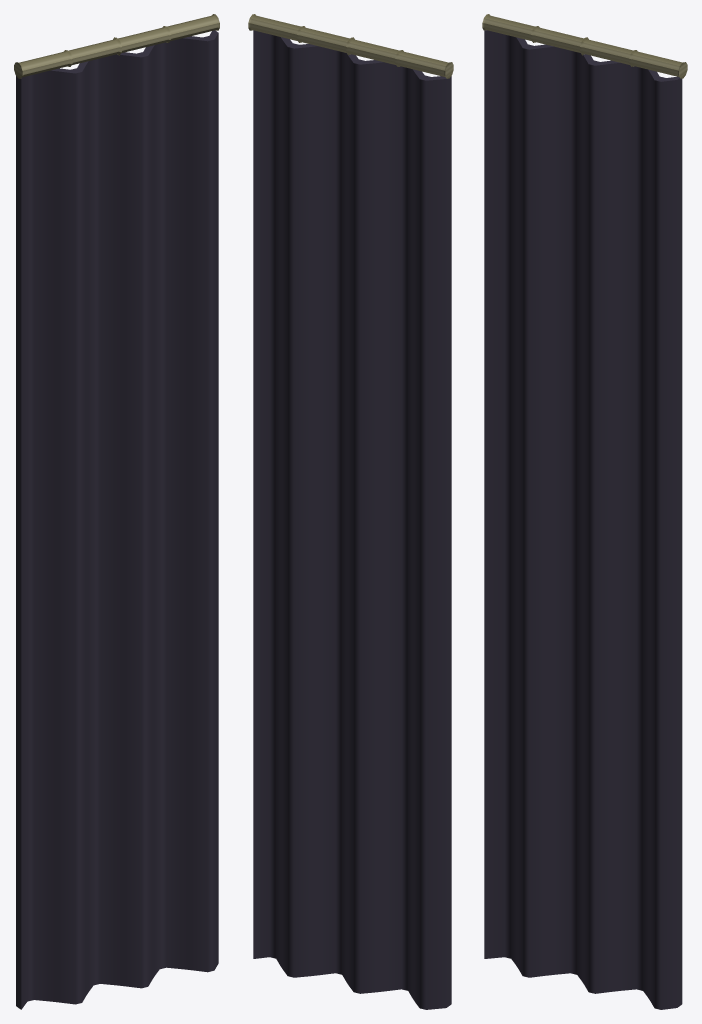
The model's file is 3dmodel_curtain_v1_sc.fbx.
The picture shows the model from 3 angles, left to right: view 1: azimuth 30°, elevation 25°; view 2: azimuth 150°, elevation 25°; view 3: azimuth 330°, elevation 25°; orthographic projection.
Visible parts, largest first — view 1: curtain; view 2: curtain; view 3: curtain.
Part boxes in pixels (x1,y1,x2,y2): curtain: [14, 14, 219, 1009]; curtain: [248, 14, 453, 1009]; curtain: [482, 14, 687, 1009].
Bounding box in the file's own units: 0.441 × 2.02 × 0.078.
